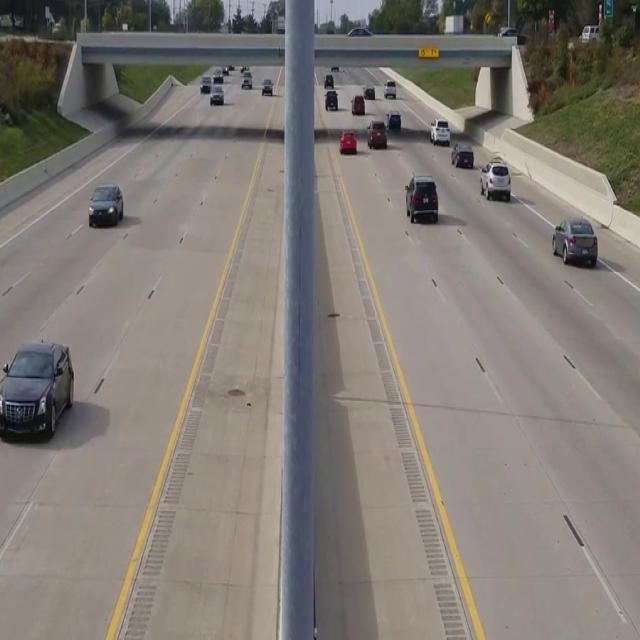car: (0, 339, 74, 441), (552, 216, 597, 267), (87, 183, 123, 228), (405, 174, 438, 222), (480, 158, 511, 201), (451, 142, 474, 168)
